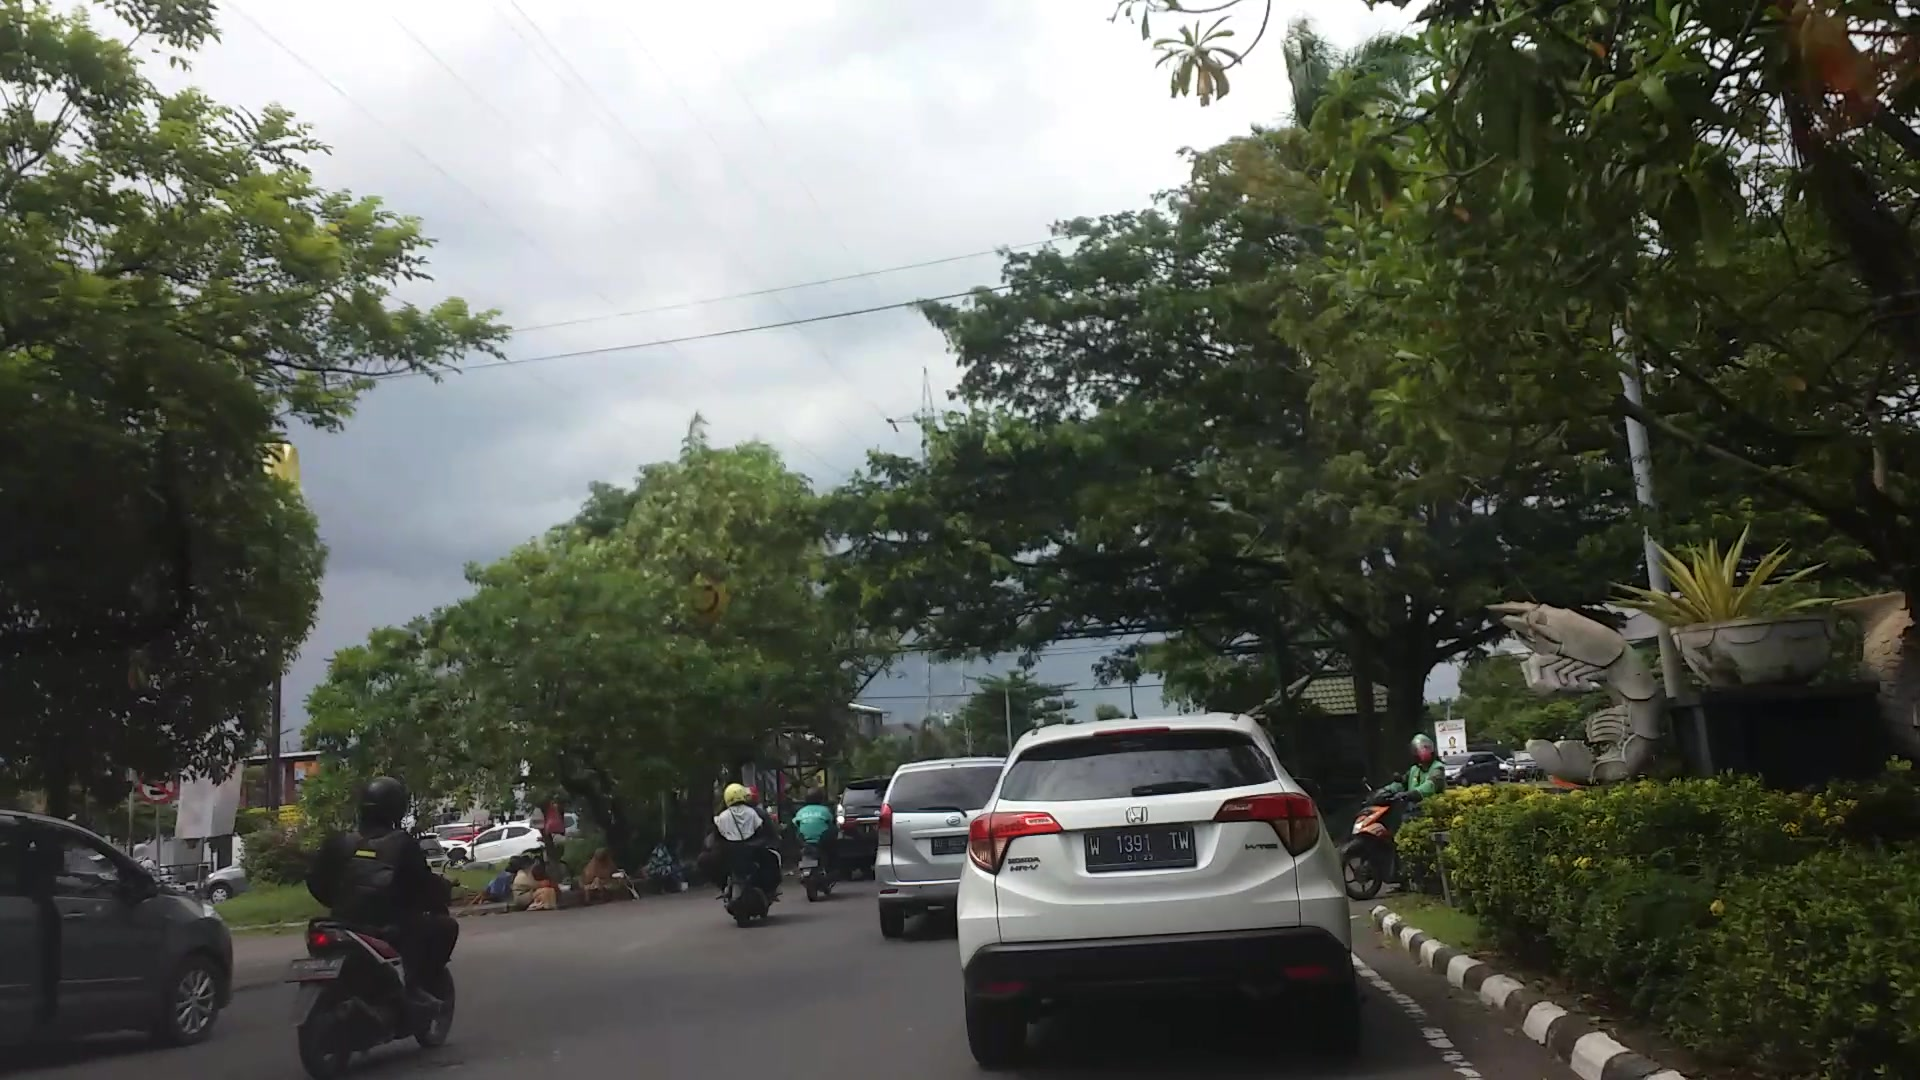plate_positive: (1084, 825, 1197, 872)
